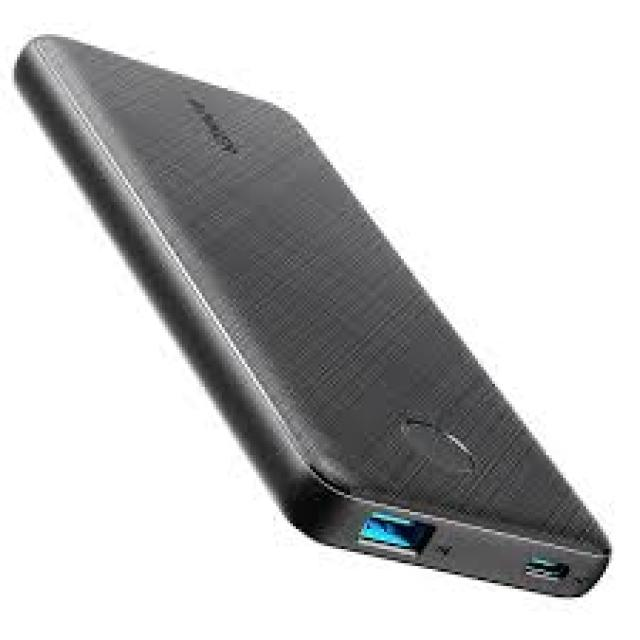power_bank: (13, 31, 616, 605)
